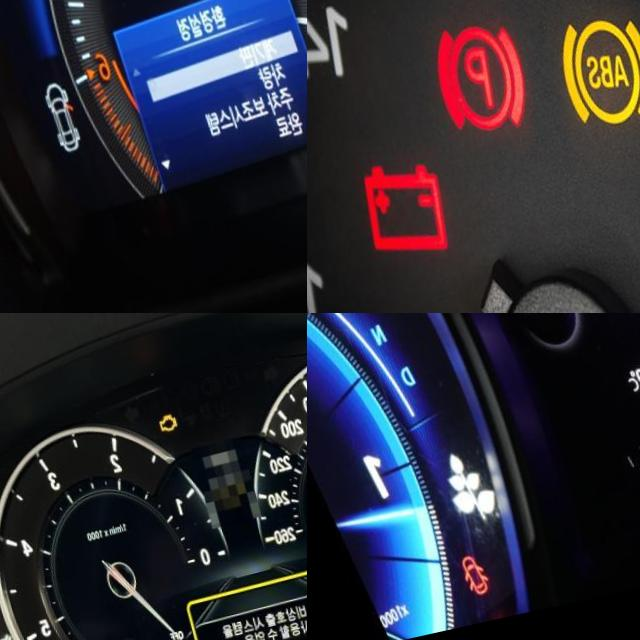Doors: (429, 556, 466, 605)
